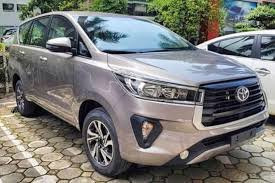mobil: (14, 16, 271, 183)
